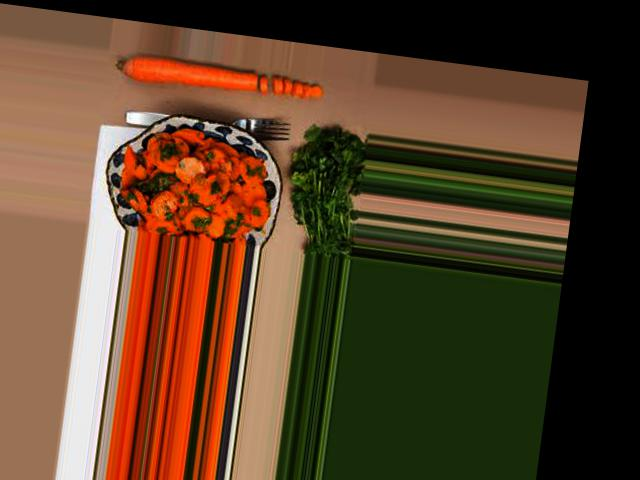carrot: (114, 50, 271, 98)
